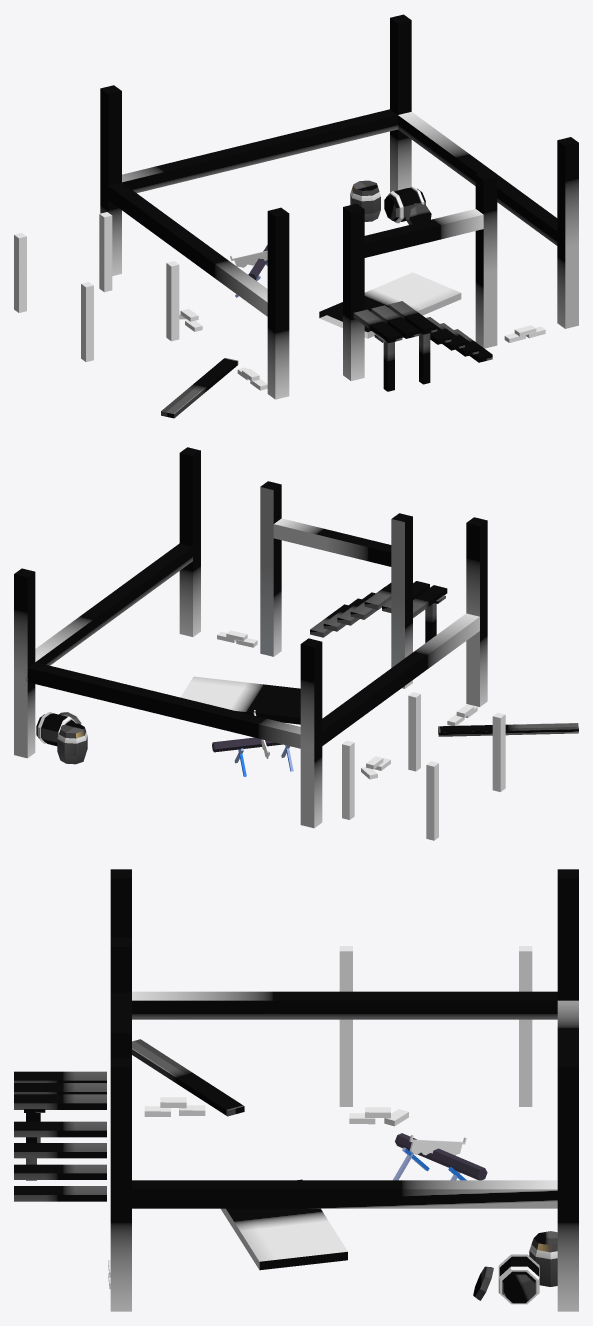
The model's file is WareHousePhase01.fbx.
3 renders of one model, top to bottom at view 1: azimuth 30°, elevation 25°; view 2: azimuth 150°, elevation 25°; view 3: azimuth 270°, elevation 25°, orthographic. The views are drawn at different scales.
Visible parts, largest first — view 1: WareHousePhase01; view 2: WareHousePhase01; view 3: WareHousePhase01.
Boxes of the visible parts, x1,y1,x2,y2 form: WareHousePhase01: (14, 14, 578, 418); WareHousePhase01: (14, 447, 578, 840); WareHousePhase01: (14, 869, 578, 1311).
Size of the model in its own units: 422 by 185 by 379.
